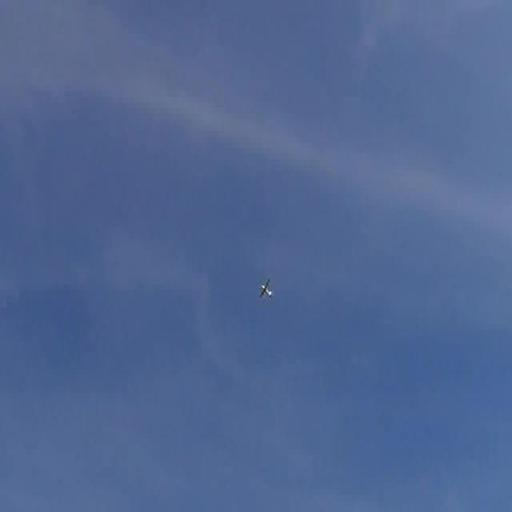uav: (256, 272, 278, 308)
